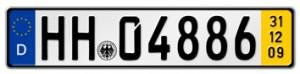0: (117, 15, 143, 62)
4: (147, 15, 172, 62)
6: (234, 15, 257, 61)
8: (175, 14, 200, 61), (205, 14, 228, 61)
H: (71, 12, 97, 62), (40, 14, 66, 62)
